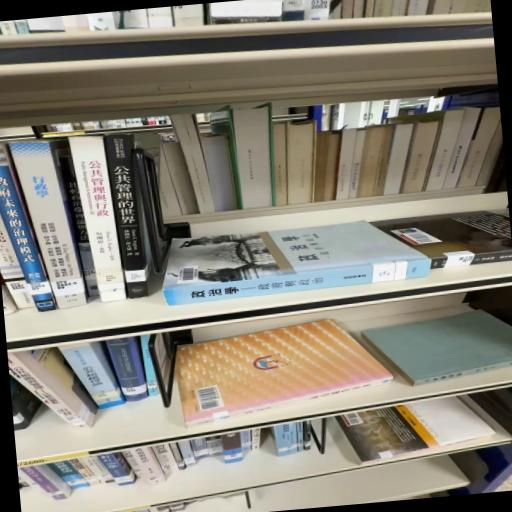flat: (176, 320, 392, 426), (163, 221, 430, 305), (362, 310, 511, 386), (336, 397, 495, 464)
